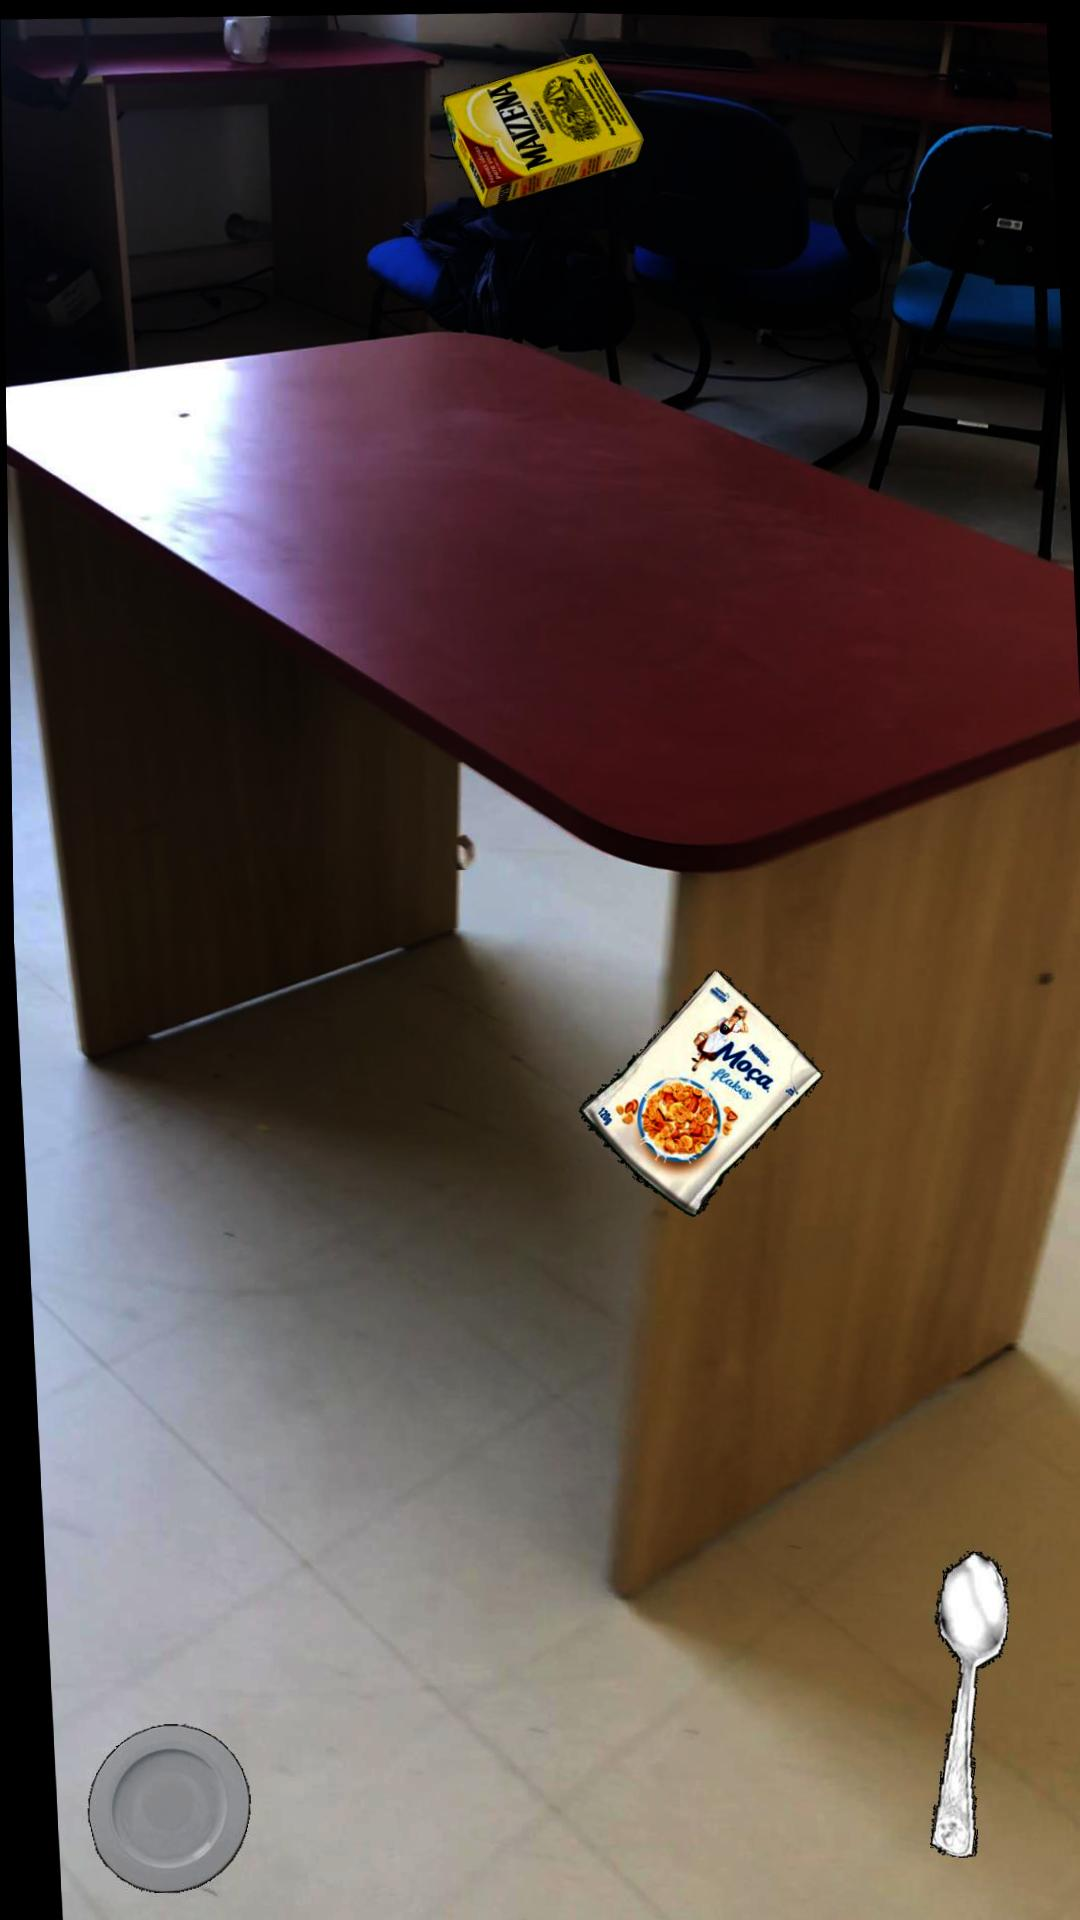corn flakes: (576, 964, 819, 1211)
plate: (83, 1721, 245, 1890)
spoon: (924, 1544, 1004, 1850)
